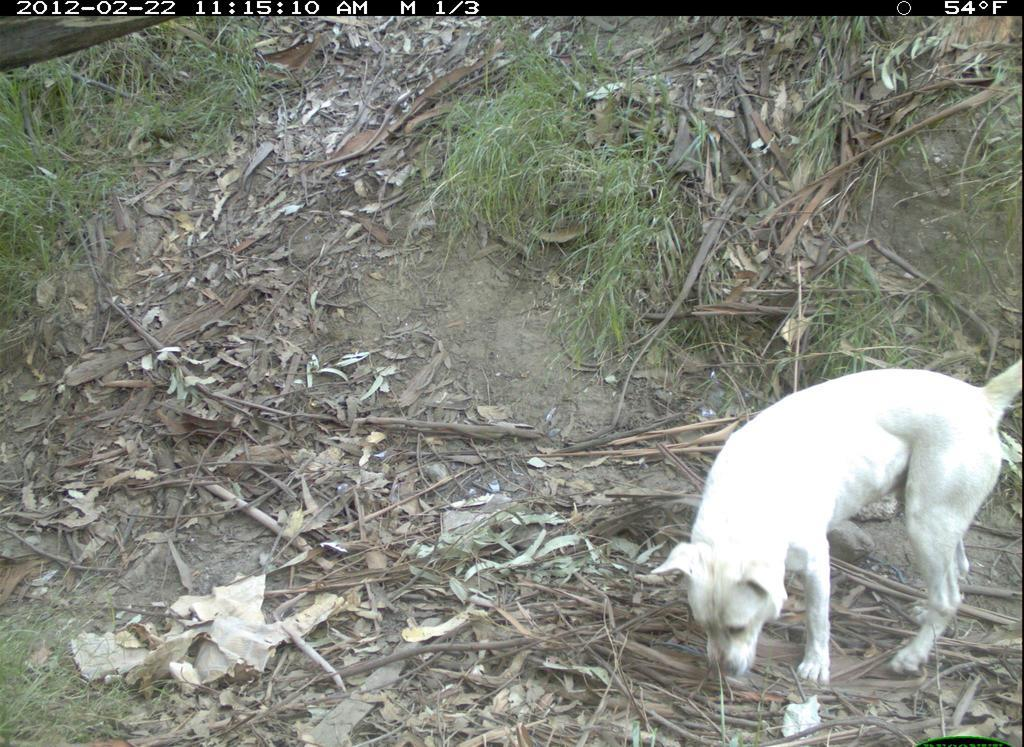dog: (657, 318, 1022, 702)
